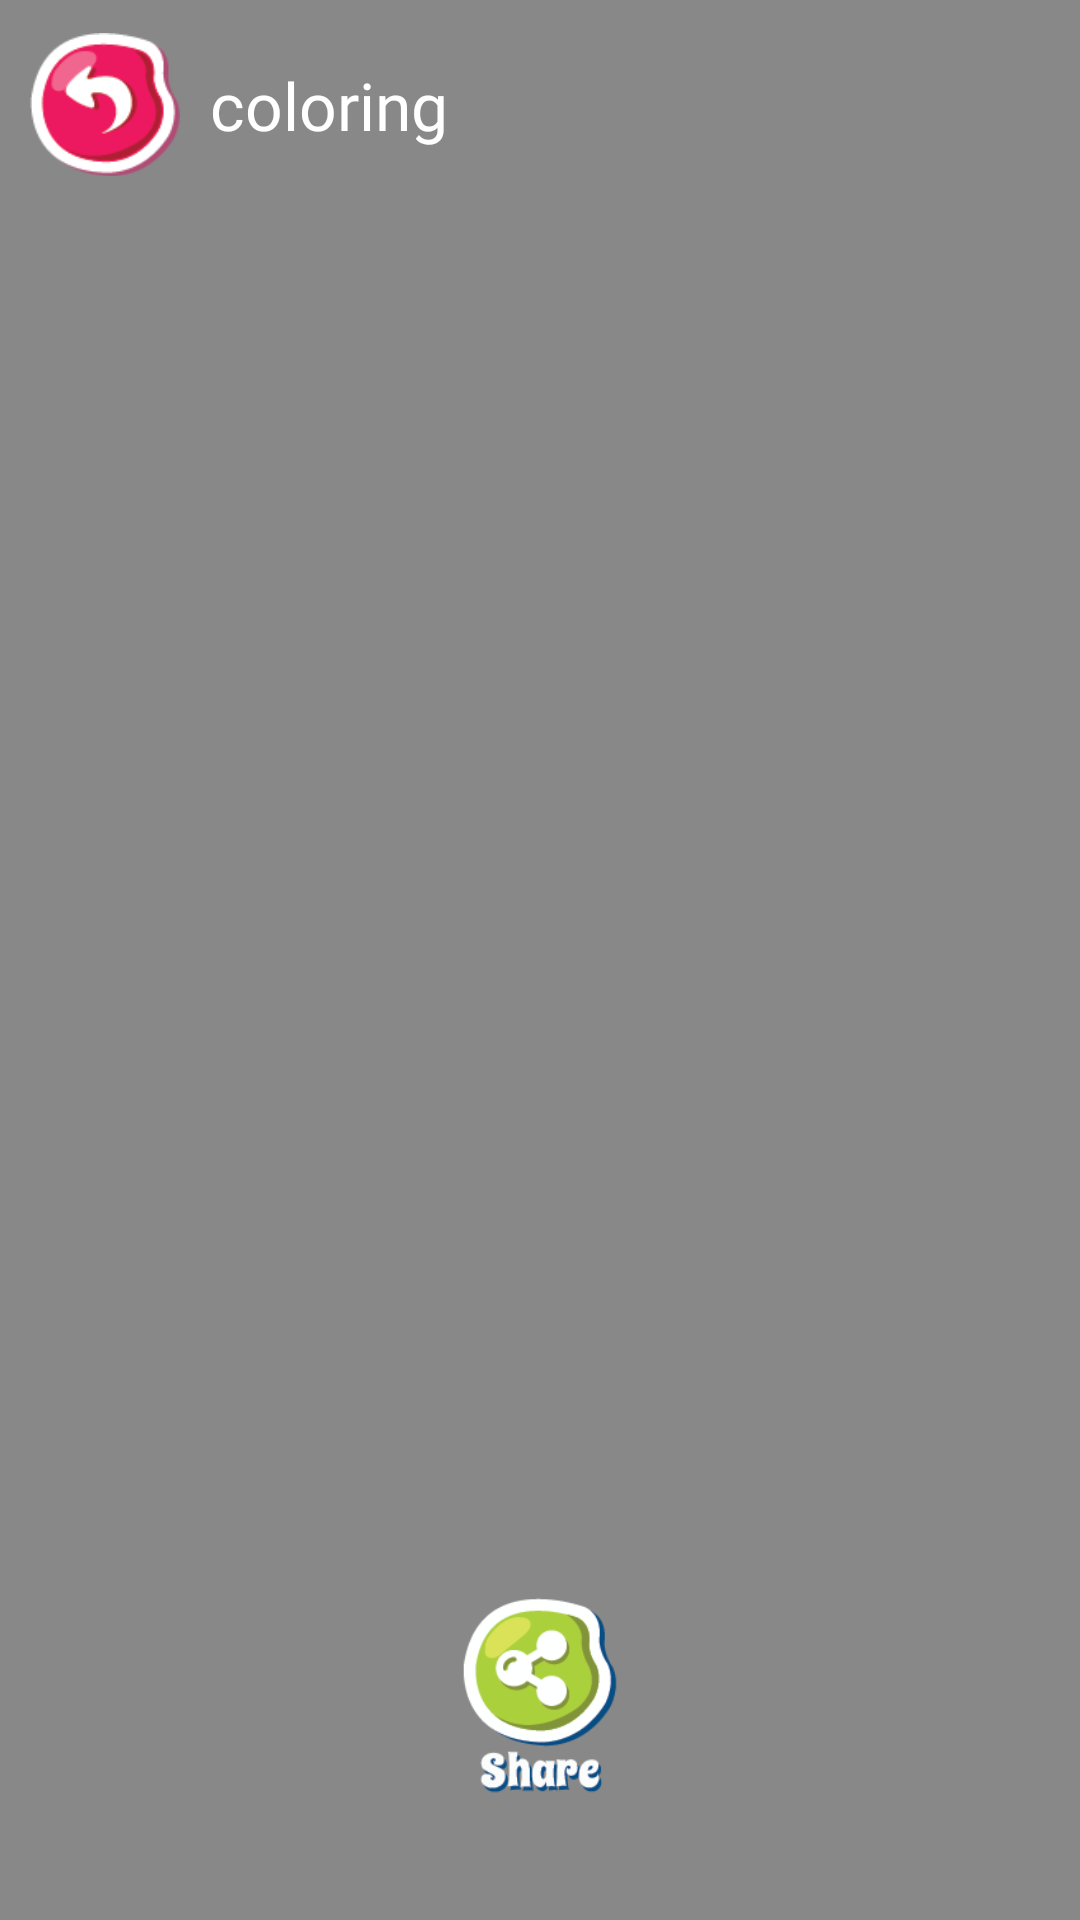

Screen size 1080 x 1920. Icon name, then its center in pixels as (x=x, y=y):
back: (x=105, y=104)
